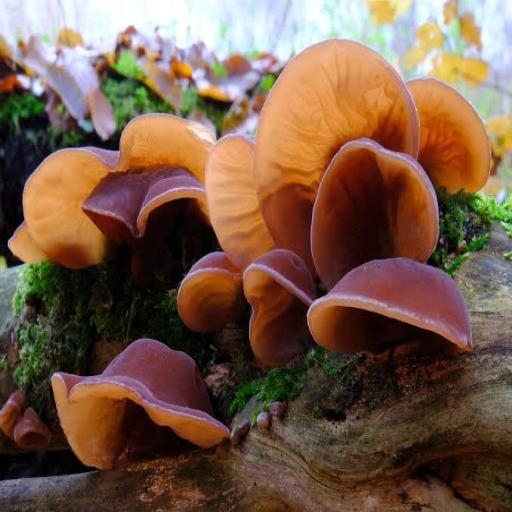Wood Ear Mushroom: (182, 37, 495, 369), (4, 112, 228, 283), (40, 329, 243, 487), (0, 364, 54, 454)
